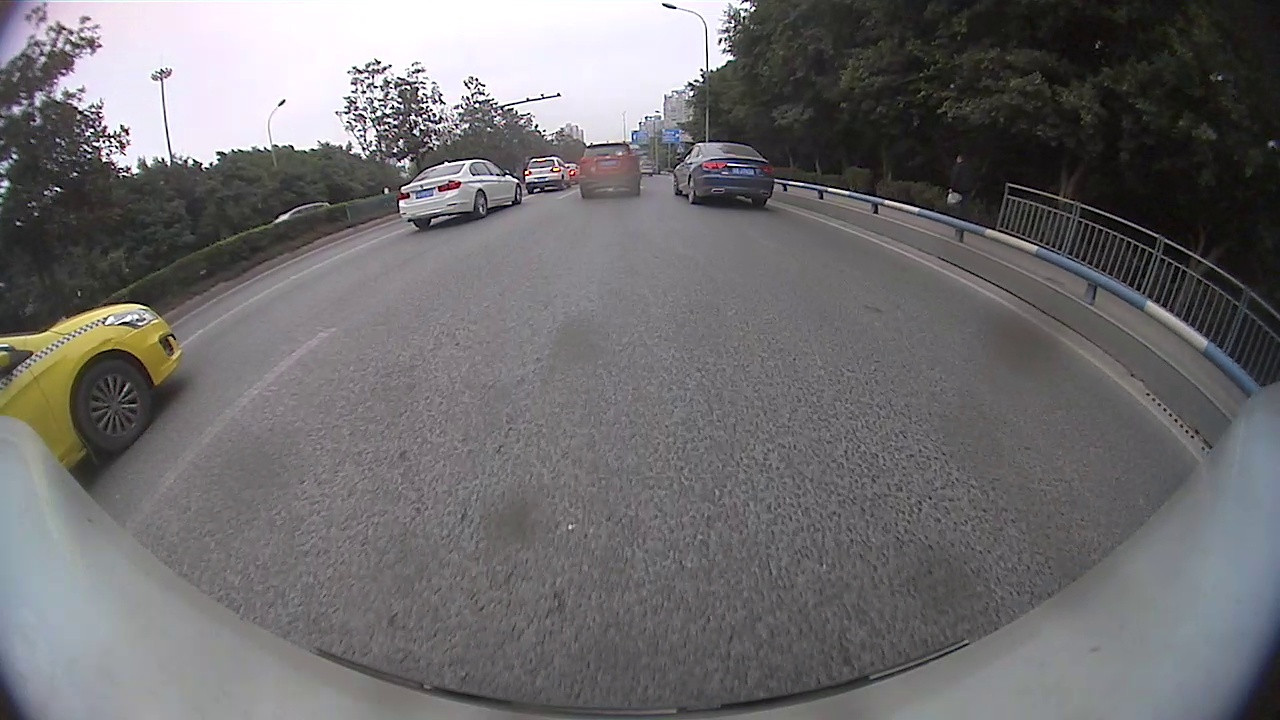car: (0, 302, 186, 474), (396, 157, 525, 232), (671, 141, 777, 210), (576, 142, 644, 198), (523, 155, 573, 196)
front: (74, 357, 157, 455), (513, 185, 525, 204)
person: (951, 150, 974, 210)
rear: (474, 191, 491, 221)
